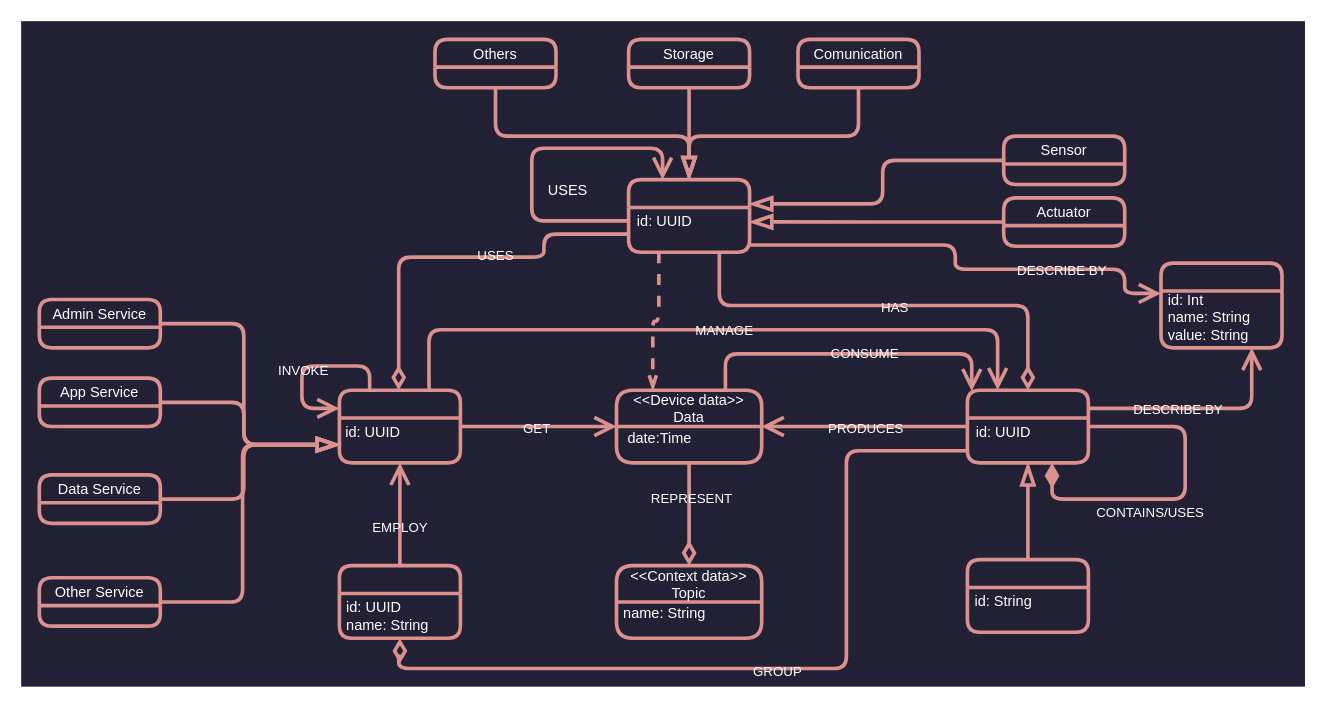
The diagram is 1325 pixels wide and 708 high, and some of its shapes have lost their labels. The box of each missing label's shape, as (x1, y1, x2, y2) in pixels:
Aplication: (337, 563, 462, 639)
Device: (965, 388, 1090, 464)
Gateway: (965, 557, 1090, 633)
Properties: (1159, 261, 1283, 349)
Resource: (626, 177, 751, 253)
Service: (337, 388, 462, 464)
